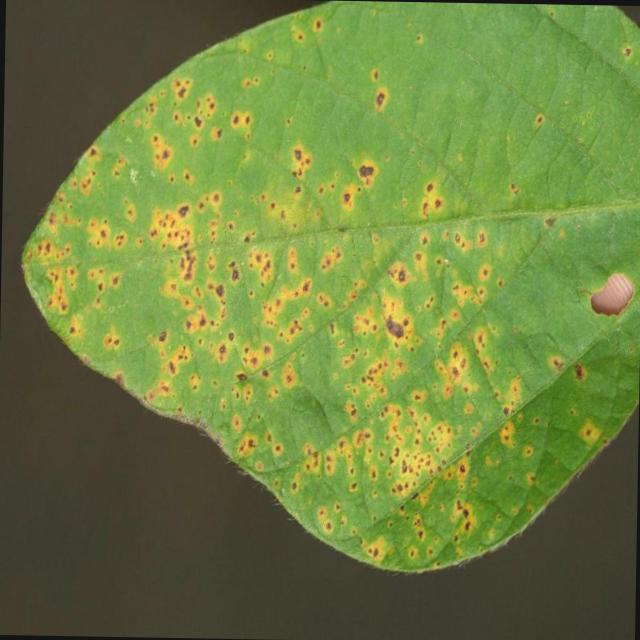leaf_spot: (22, 1, 640, 571)
